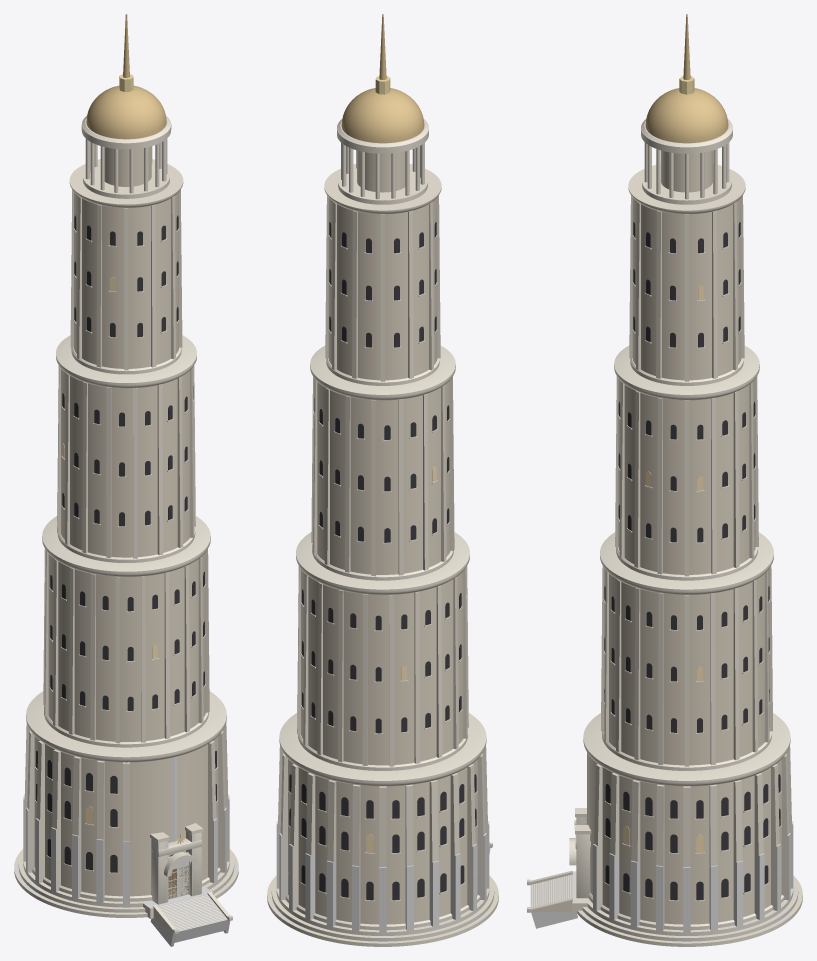
File: watchtower_exterior.glb
3 renders of one model, left to right at view 1: azimuth 30°, elevation 25°; view 2: azimuth 150°, elevation 25°; view 3: azimuth 270°, elevation 25°, orthographic. The views are drawn at different scales.
Visible parts, largest first — view 1: KIT_TowerUpper, KIT_TowerBase, COL_TowerBase_3_BOX, COL_TowerBase_12_BOX, COL_TowerBase_34_BOX, COL_TowerBase_35_BOX; view 2: KIT_TowerUpper, KIT_TowerBase, COL_TowerBase_26_BOX, COL_TowerBase_30_BOX, COL_TowerBase_25_BOX, COL_TowerBase_31_BOX, COL_TowerBase_29_BOX, COL_TowerBase_27_BOX, COL_TowerBase_28_BOX; view 3: KIT_TowerUpper, KIT_TowerBase, COL_TowerBase_3_BOX, COL_TowerBase_42_BOX, COL_TowerBase_41_BOX, COL_TowerBase_23_BOX, COL_TowerBase_22_BOX, KIT_TowerGlass, COL_TowerBase_21_BOX, COL_TowerBase_43_BOX.
Part boxes in pixels (bbox=[...]): KIT_TowerUpper: bbox=[26, 14, 226, 758]; KIT_TowerBase: bbox=[14, 717, 238, 933]; COL_TowerBase_3_BOX: bbox=[158, 895, 227, 942]; COL_TowerBase_12_BOX: bbox=[168, 852, 189, 899]; COL_TowerBase_34_BOX: bbox=[72, 834, 81, 898]; COL_TowerBase_35_BOX: bbox=[96, 839, 104, 902]; KIT_TowerUpper: bbox=[279, 14, 486, 782]; KIT_TowerBase: bbox=[267, 740, 498, 946]; COL_TowerBase_26_BOX: bbox=[326, 860, 336, 926]; COL_TowerBase_30_BOX: bbox=[429, 860, 439, 926]; COL_TowerBase_25_BOX: bbox=[305, 853, 315, 919]; COL_TowerBase_31_BOX: bbox=[450, 853, 460, 919]; COL_TowerBase_29_BOX: bbox=[405, 864, 413, 930]; COL_TowerBase_27_BOX: bbox=[352, 865, 360, 930]; COL_TowerBase_28_BOX: bbox=[379, 867, 386, 932]; KIT_TowerUpper: bbox=[583, 14, 790, 782]; KIT_TowerBase: bbox=[527, 740, 802, 946]; COL_TowerBase_3_BOX: bbox=[530, 874, 572, 907]; COL_TowerBase_42_BOX: bbox=[630, 860, 640, 926]; COL_TowerBase_41_BOX: bbox=[609, 853, 619, 919]; COL_TowerBase_23_BOX: bbox=[754, 853, 764, 919]; COL_TowerBase_22_BOX: bbox=[733, 860, 743, 926]; KIT_TowerGlass: bbox=[623, 285, 703, 852]; COL_TowerBase_21_BOX: bbox=[709, 864, 717, 930]; COL_TowerBase_43_BOX: bbox=[656, 864, 664, 930].
Size of what is drawn, in the model's own units: 98 by 420 by 117.
